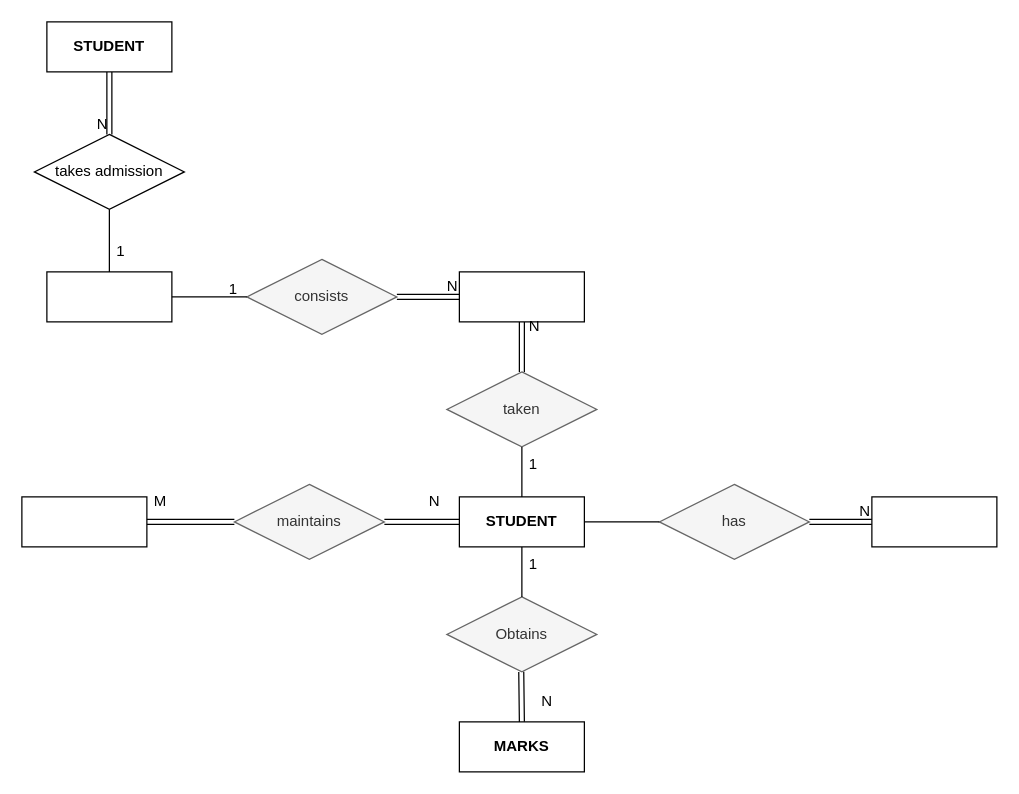
Some shapes in this 1019 by 794 pixel diagram are drawn without their labels. The box of each missing label's shape, as (x1, y1, x2, y2) in pixels:
ATTENDENCE: (21, 496, 147, 547)
DEPARTMENT: (46, 271, 172, 322)
DETAILS: (871, 496, 997, 547)
SUBJECTS: (458, 271, 584, 322)
